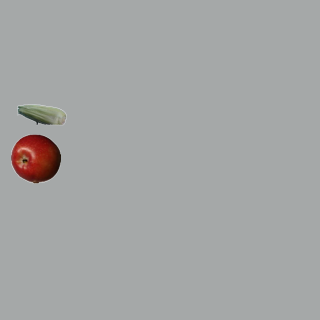Apple Braeburn: (10, 133, 60, 183)
Corn Husk: (16, 89, 66, 139)
